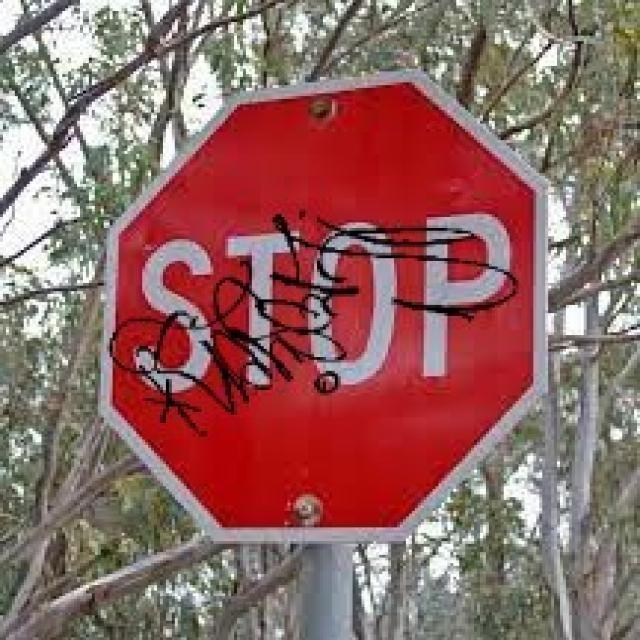Stop-Sign: (120, 94, 536, 526)
